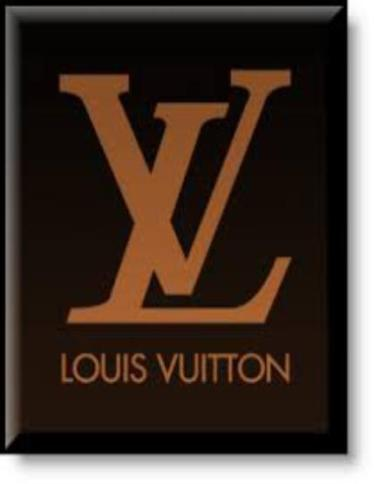LOUIS-VUITTON: (48, 46, 306, 327), (36, 341, 301, 395)
